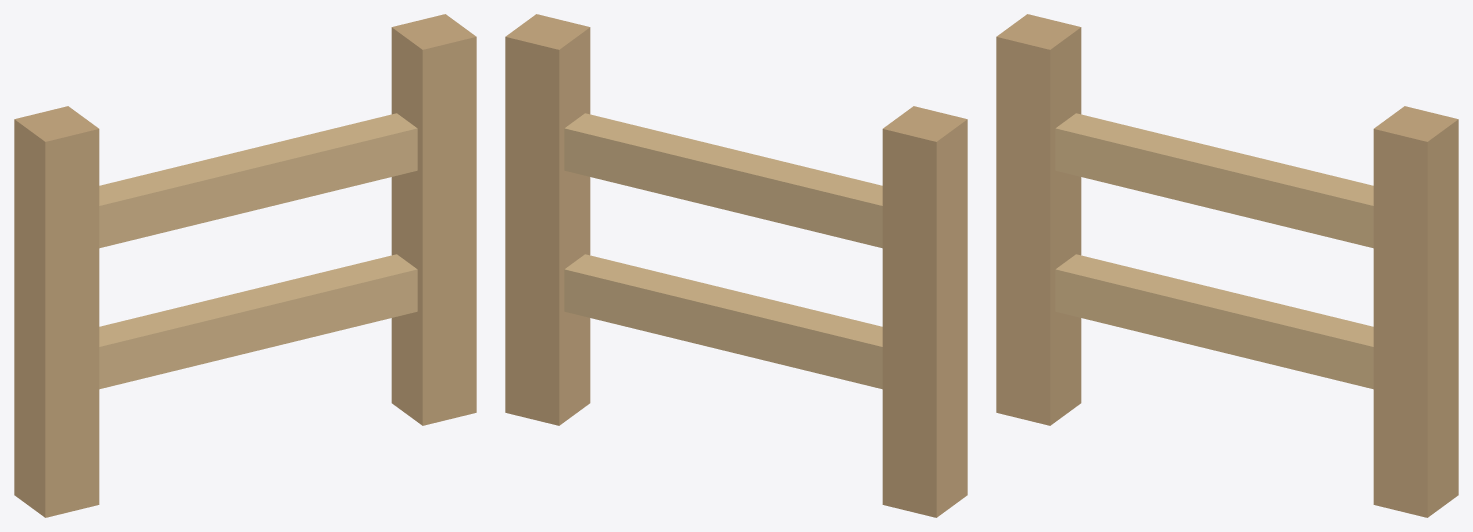
Rendered from fence.gltf.
3 renders of one model, left to right at view 1: azimuth 30°, elevation 25°; view 2: azimuth 150°, elevation 25°; view 3: azimuth 330°, elevation 25°, orthographic.
Parts seen in each view (by area): view 1: fence; view 2: fence; view 3: fence.
Boxes of the visible parts, x1,y1,x2,y2 form: fence: (14,14,476,517); fence: (505,14,967,517); fence: (996,14,1458,517).
Size of the model in its own units: 0.96 by 0.8 by 0.12.
